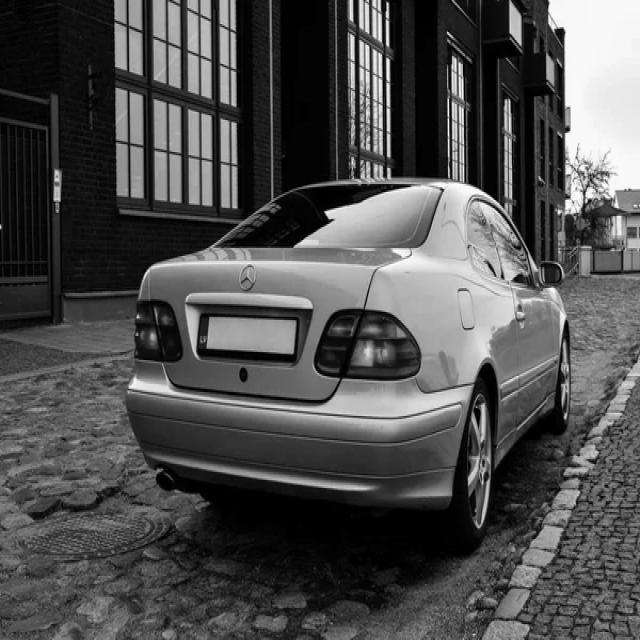Car: (127, 180, 571, 550)
